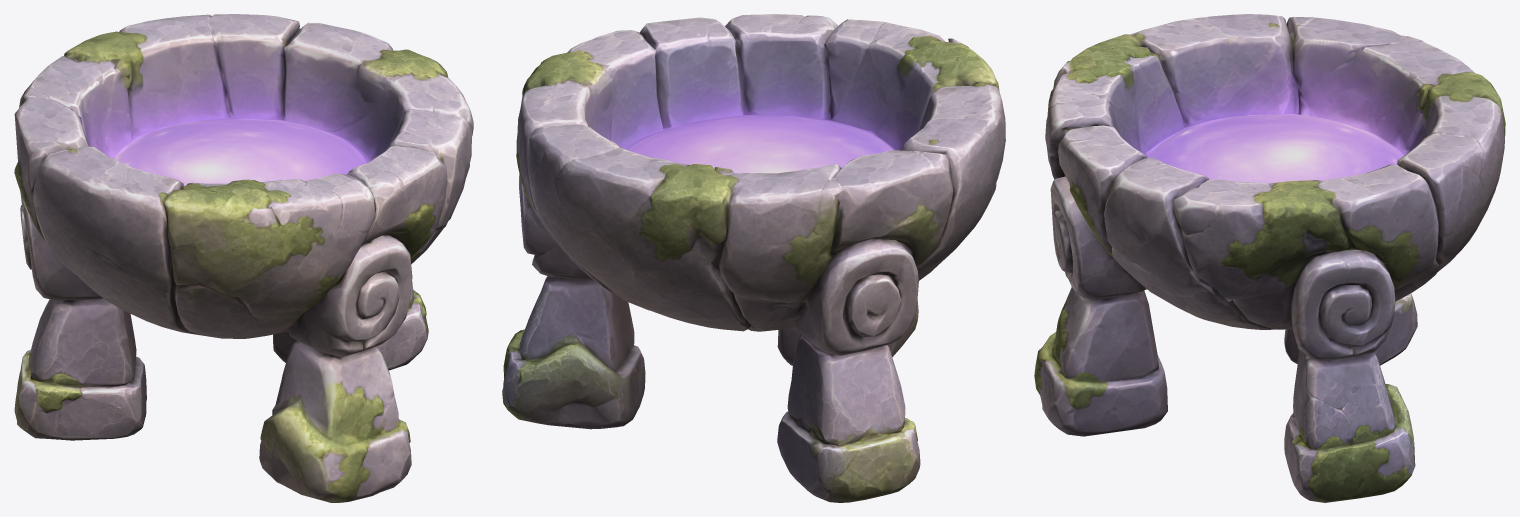
File: Kit_R_SpiritBowl_HD_src.glb
3 views of the same model, side by side, from view 1: azimuth 30°, elevation 25°; view 2: azimuth 150°, elevation 25°; view 3: azimuth 270°, elevation 25° (orthographic). The views are drawn at different scales.
Visible parts, largest first — view 1: tripo_node_3f188c95-5e52-49c0-87a8-cd64bbd5ed82; view 2: tripo_node_3f188c95-5e52-49c0-87a8-cd64bbd5ed82; view 3: tripo_node_3f188c95-5e52-49c0-87a8-cd64bbd5ed82.
Boxes of the visible parts, x1,y1,x2,y2 form: tripo_node_3f188c95-5e52-49c0-87a8-cd64bbd5ed82: (14, 14, 473, 502); tripo_node_3f188c95-5e52-49c0-87a8-cd64bbd5ed82: (502, 14, 1005, 502); tripo_node_3f188c95-5e52-49c0-87a8-cd64bbd5ed82: (1034, 14, 1505, 502).
Size of the model in its own units: 0.9679 by 0.7196 by 0.9814.
Materials: 1 (1 with a texture image).
